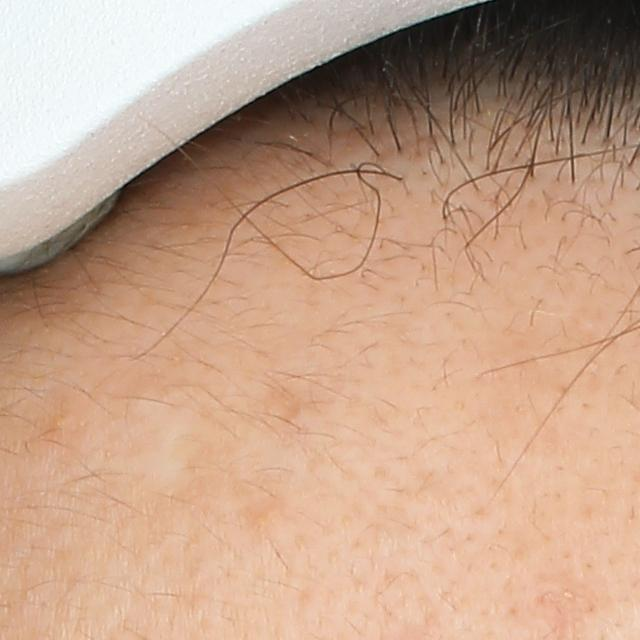other: (75, 393, 235, 508)
